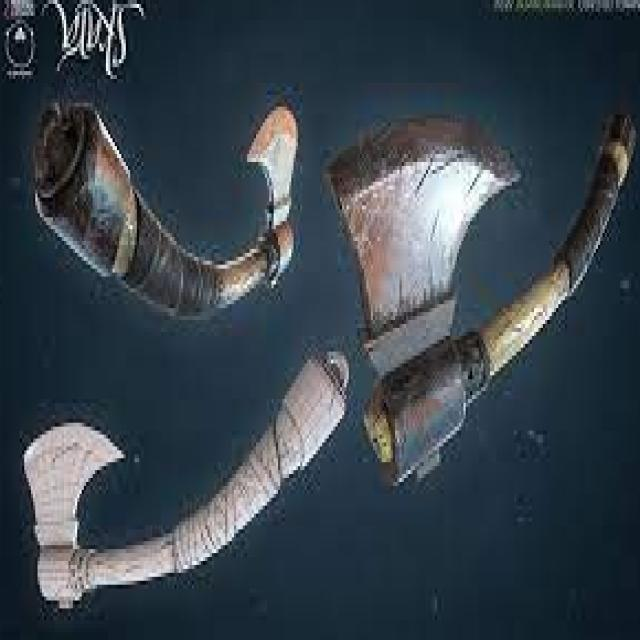Gun: (324, 52, 640, 510), (0, 336, 364, 636), (15, 86, 312, 344)
